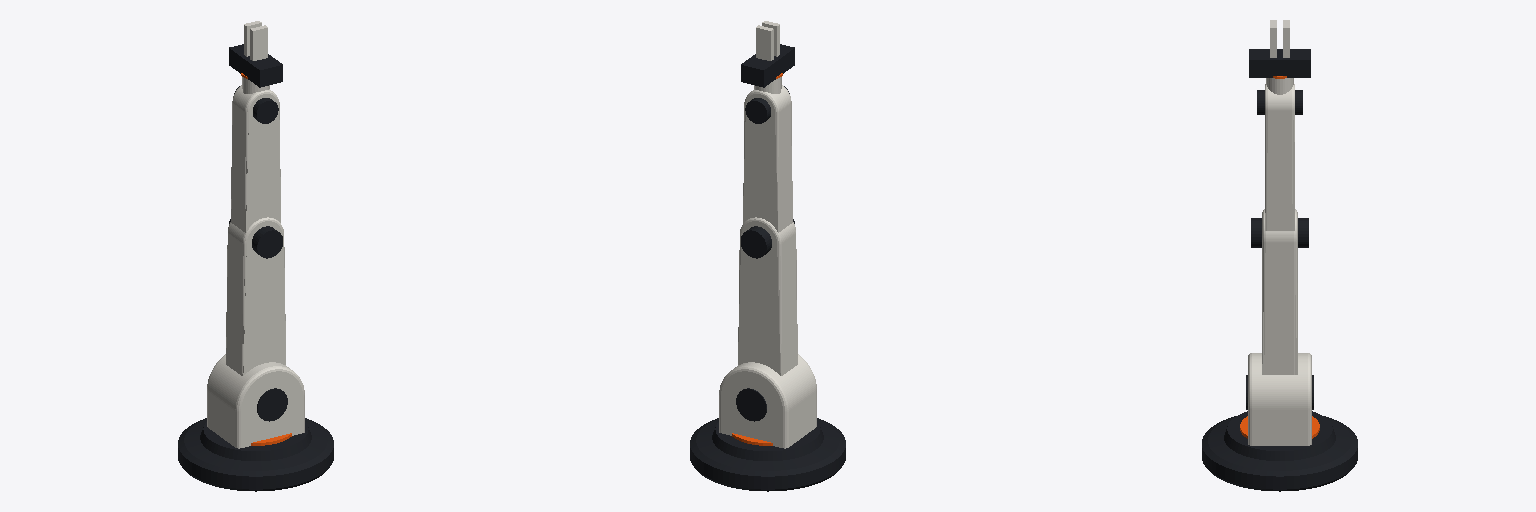
URDF robot description (wren):
<?xml version="1.0"?>
<!-- Wren: a small made-up desk arm, written for robot-viewer's example. Not a real product. MIT licence. -->
<robot name="wren">
  <material name="chalk"><color rgba="0.86 0.85 0.82 1"/></material>
  <material name="graphite"><color rgba="0.16 0.17 0.19 1"/></material>
  <material name="signal"><color rgba="0.96 0.40 0.10 1"/></material>

  <link name="base">
    <visual><geometry><mesh filename="meshes/base.dae"/></geometry></visual>
  </link>

  <link name="turret">
    <visual><geometry><mesh filename="meshes/shoulder.obj"/></geometry><material name="chalk"/></visual>
    <visual><origin xyz="0 0 0.002" rpy="0 0 0"/><geometry><cylinder radius="0.05" length="0.004"/></geometry><material name="signal"/></visual>
  </link>

  <link name="upper_arm">
    <visual><geometry><mesh filename="meshes/upper_arm.stl"/></geometry><material name="chalk"/></visual>
    <visual><origin xyz="0 0 0" rpy="1.5708 0 0"/><geometry><cylinder radius="0.022" length="0.084"/></geometry><material name="graphite"/></visual>
    <visual><origin xyz="0 0 0" rpy="1.5708 0 0"/><geometry><cylinder radius="0.0235" length="0.012"/></geometry><material name="signal"/></visual>
  </link>

  <link name="forearm">
    <visual><geometry><mesh filename="meshes/forearm.stl"/></geometry><material name="chalk"/></visual>
    <visual><origin xyz="0 0 0" rpy="1.5708 0 0"/><geometry><cylinder radius="0.019" length="0.072"/></geometry><material name="graphite"/></visual>
  </link>

  <link name="wrist">
    <visual><origin xyz="0 0 0" rpy="1.5708 0 0"/><geometry><cylinder radius="0.016" length="0.058"/></geometry><material name="graphite"/></visual>
    <visual><origin xyz="0 0 0.022" rpy="0 0 0"/><geometry><cylinder radius="0.017" length="0.04"/></geometry><material name="chalk"/></visual>
  </link>

  <link name="hand">
    <visual><origin xyz="0 0 0.012" rpy="0 0 0"/><geometry><box size="0.034 0.078 0.024"/></geometry><material name="graphite"/></visual>
    <visual><origin xyz="0 0 0.001" rpy="0 0 0"/><geometry><cylinder radius="0.019" length="0.003"/></geometry><material name="signal"/></visual>
  </link>

  <link name="finger_left">
    <visual><origin xyz="0 0.004 0.021" rpy="0 0 0"/><geometry><box size="0.022 0.008 0.042"/></geometry><material name="chalk"/></visual>
  </link>
  <link name="finger_right">
    <visual><origin xyz="0 -0.004 0.021" rpy="0 0 0"/><geometry><box size="0.022 0.008 0.042"/></geometry><material name="chalk"/></visual>
  </link>
  <link name="tool"/>

  <joint name="base_yaw" type="revolute">
    <parent link="base"/><child link="turret"/>
    <origin xyz="0 0 0.042" rpy="0 0 0"/><axis xyz="0 0 1"/>
    <limit lower="-2.967" upper="2.967" effort="6" velocity="2.0"/>
  </joint>
  <joint name="shoulder" type="revolute">
    <parent link="turret"/><child link="upper_arm"/>
    <origin xyz="0 0 0.05" rpy="0 0 0"/><axis xyz="0 1 0"/>
    <limit lower="-1.745" upper="1.745" effort="6" velocity="1.6"/>
  </joint>
  <joint name="elbow" type="revolute">
    <parent link="upper_arm"/><child link="forearm"/>
    <origin xyz="0 0 0.22" rpy="0 0 0"/><axis xyz="0 1 0"/>
    <limit lower="-2.53" upper="2.53" effort="4" velocity="2.0"/>
  </joint>
  <joint name="wrist_pitch" type="revolute">
    <parent link="forearm"/><child link="wrist"/>
    <origin xyz="0 0 0.18" rpy="0 0 0"/><axis xyz="0 1 0"/>
    <limit lower="-2.0" upper="2.0" effort="2" velocity="3.0"/>
  </joint>
  <joint name="wrist_roll" type="continuous">
    <parent link="wrist"/><child link="hand"/>
    <origin xyz="0 0 0.042" rpy="0 0 0"/><axis xyz="0 0 1"/>
    <limit effort="1" velocity="4.0"/>
  </joint>
  <joint name="gripper" type="prismatic">
    <parent link="hand"/><child link="finger_left"/>
    <origin xyz="0 0.004 0.024" rpy="0 0 0"/><axis xyz="0 1 0"/>
    <limit lower="0" upper="0.026" effort="20" velocity="0.05"/>
  </joint>
  <joint name="gripper_mirror" type="prismatic">
    <parent link="hand"/><child link="finger_right"/>
    <origin xyz="0 -0.004 0.024" rpy="0 0 0"/><axis xyz="0 -1 0"/>
    <limit lower="0" upper="0.026" effort="20" velocity="0.05"/>
    <mimic joint="gripper" multiplier="1" offset="0"/>
  </joint>
  <joint name="tool_frame" type="fixed">
    <parent link="hand"/><child link="tool"/>
    <origin xyz="0 0 0.09" rpy="0 0 0"/>
  </joint>
</robot>

--- Render facts (derived) ---
Views: 3 orthographic renders of the robot side by side, from view 1: azimuth 30°, elevation 25°; view 2: azimuth 150°, elevation 25°; view 3: azimuth 270°, elevation 25°.
Robot: wren — 9 links, 8 joints (4 revolute, 1 continuous, 2 prismatic, 1 fixed); root link base; default pose: all joints at 0.
Links seen in each view (by area): view 1: upper_arm, base, forearm, turret, hand, wrist, finger_right; view 2: upper_arm, base, forearm, turret, hand, wrist, finger_left; view 3: base, upper_arm, turret, forearm, hand, wrist.
Link boxes in pixels (x1,y1,x2,y2): upper_arm: (226, 217, 287, 421); base: (178, 418, 333, 491); forearm: (229, 85, 282, 258); turret: (207, 354, 304, 448); hand: (229, 44, 282, 87); wrist: (234, 77, 278, 123); finger_right: (250, 25, 267, 60); upper_arm: (736, 217, 797, 421); base: (690, 418, 845, 491); forearm: (741, 85, 794, 258); turret: (719, 354, 816, 448); hand: (741, 44, 794, 87); wrist: (745, 77, 789, 123); finger_left: (756, 25, 773, 60); base: (1202, 411, 1357, 491); upper_arm: (1246, 209, 1313, 409); turret: (1240, 353, 1319, 445); forearm: (1251, 84, 1308, 247); hand: (1249, 49, 1310, 78); wrist: (1257, 78, 1302, 114).
Size in the robot's own frame: 0.196 by 0.196 by 0.6 metres.
Meshes: 4 distinct files referenced, 4 mesh visuals loaded (1 binary STL, 1 ASCII STL, 1 Collada DAE, 1 OBJ).
